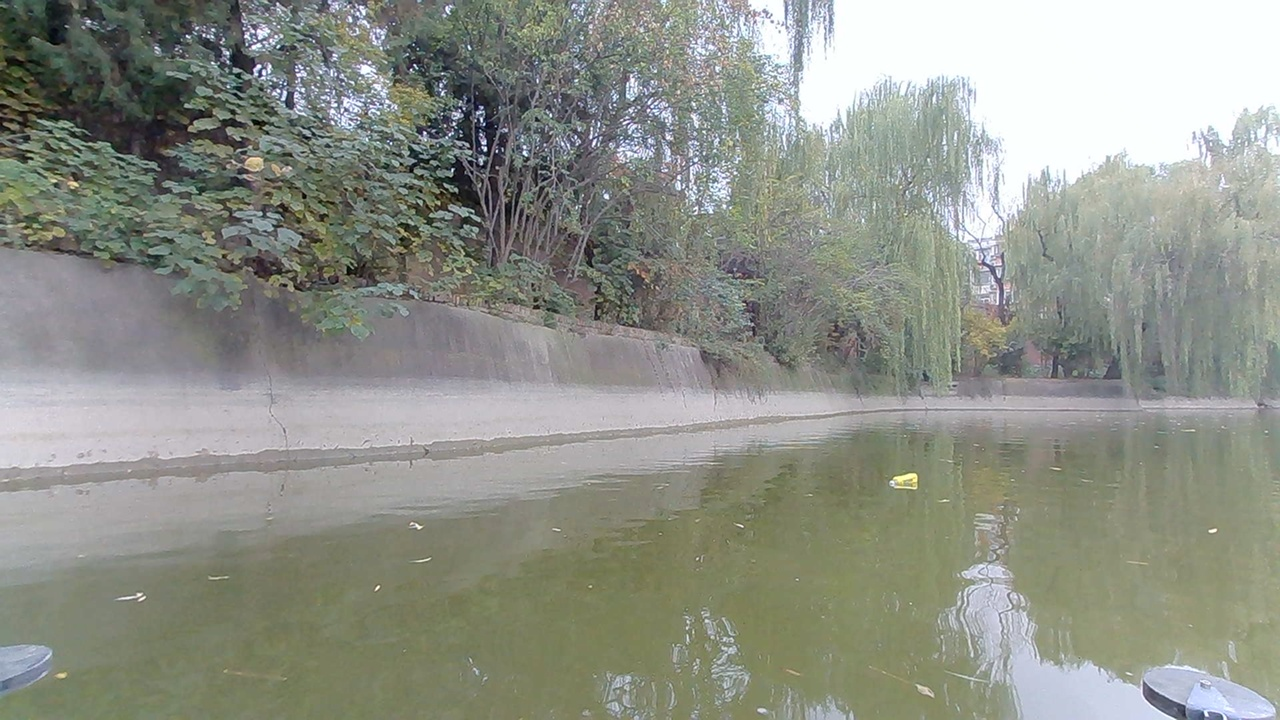bottle: (890, 470, 924, 493)
